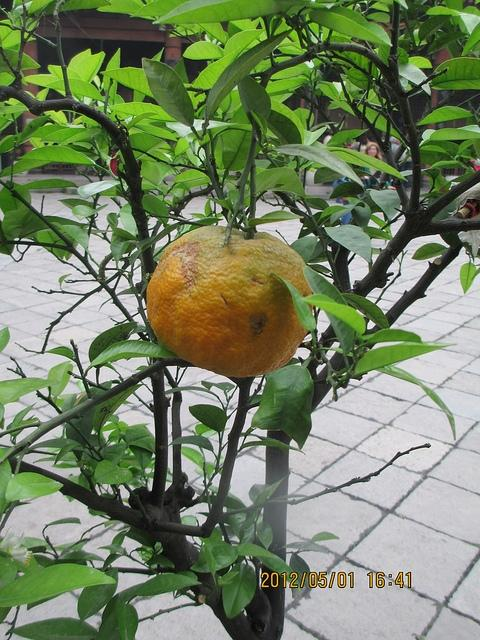orange: (146, 225, 312, 378)
